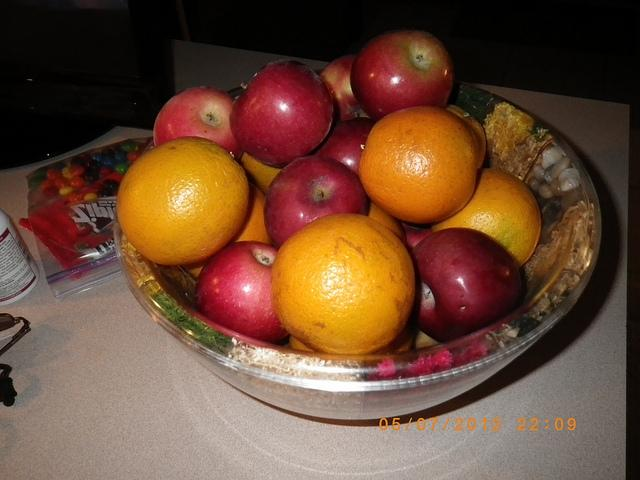apple: (409, 228, 526, 344), (230, 59, 334, 167), (264, 154, 369, 250), (194, 241, 290, 345), (350, 28, 455, 123), (154, 87, 243, 164), (307, 117, 377, 176), (318, 54, 371, 122)
